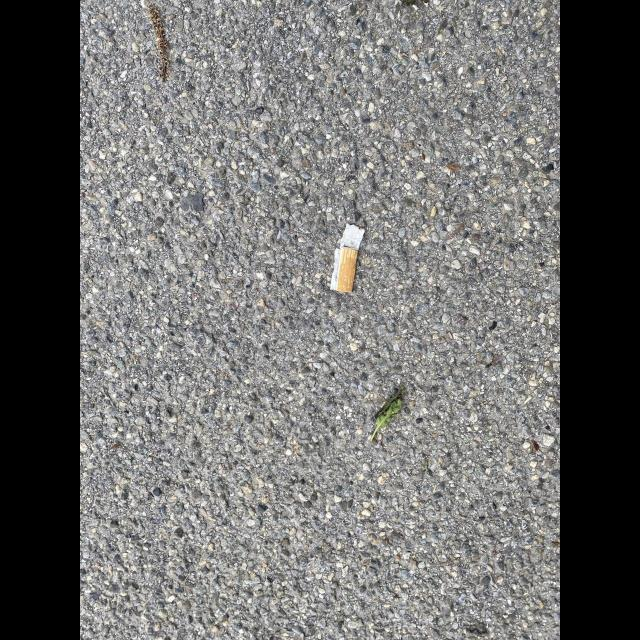cigarette: (330, 222, 365, 292)
